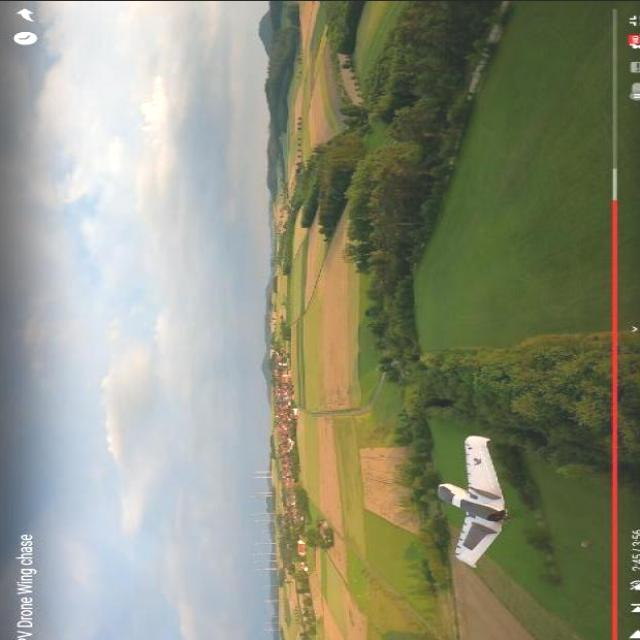plane: (436, 432, 510, 566)
